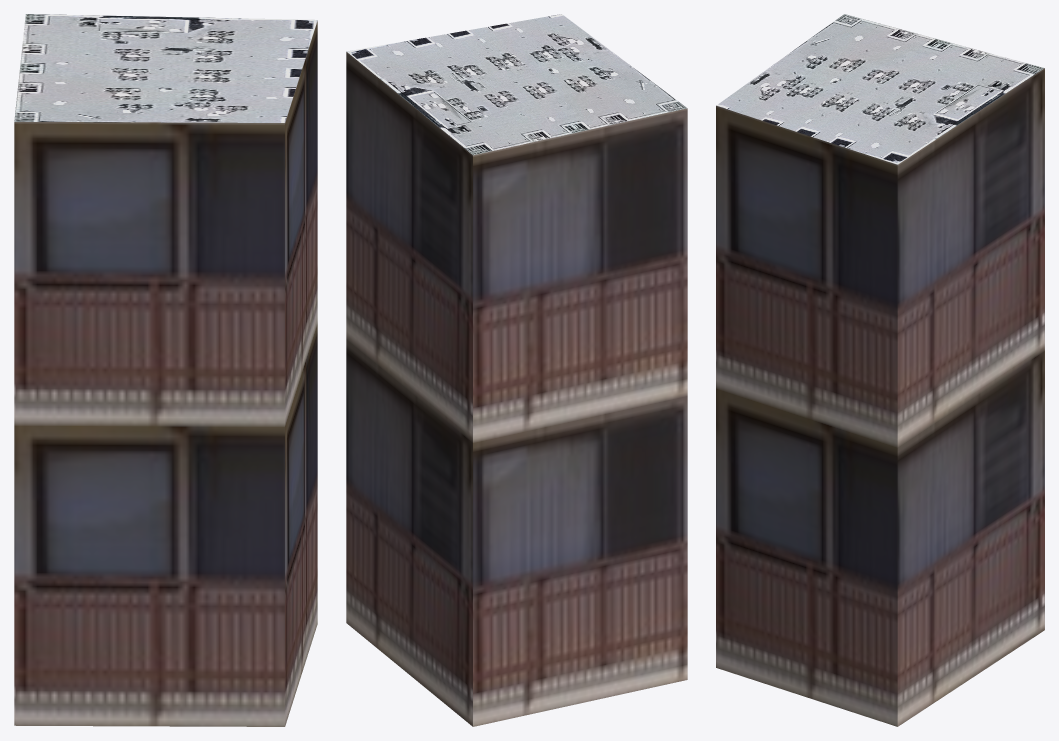
Rendered from ResTex__974.fbx.
3 views of the same model, side by side, from view 1: azimuth 30°, elevation 25°; view 2: azimuth 150°, elevation 25°; view 3: azimuth 270°, elevation 25° (orthographic). The views are drawn at different scales.
Visible parts, largest first — view 1: CityEngineMaterial_6_m, CityEngineMaterial_m; view 2: CityEngineMaterial_6_m, CityEngineMaterial_m; view 3: CityEngineMaterial_6_m, CityEngineMaterial_m.
Boxes of the visible parts, x1,y1,x2,y2 form: CityEngineMaterial_6_m: (14,21,317,726); CityEngineMaterial_m: (14,14,317,122); CityEngineMaterial_6_m: (346,52,687,726); CityEngineMaterial_m: (346,14,686,155); CityEngineMaterial_6_m: (716,68,1044,726); CityEngineMaterial_m: (716,14,1044,164).
Bounding box in the file's own units: 3.45 × 6 × 3.18.
2 materials, 2 textured.
